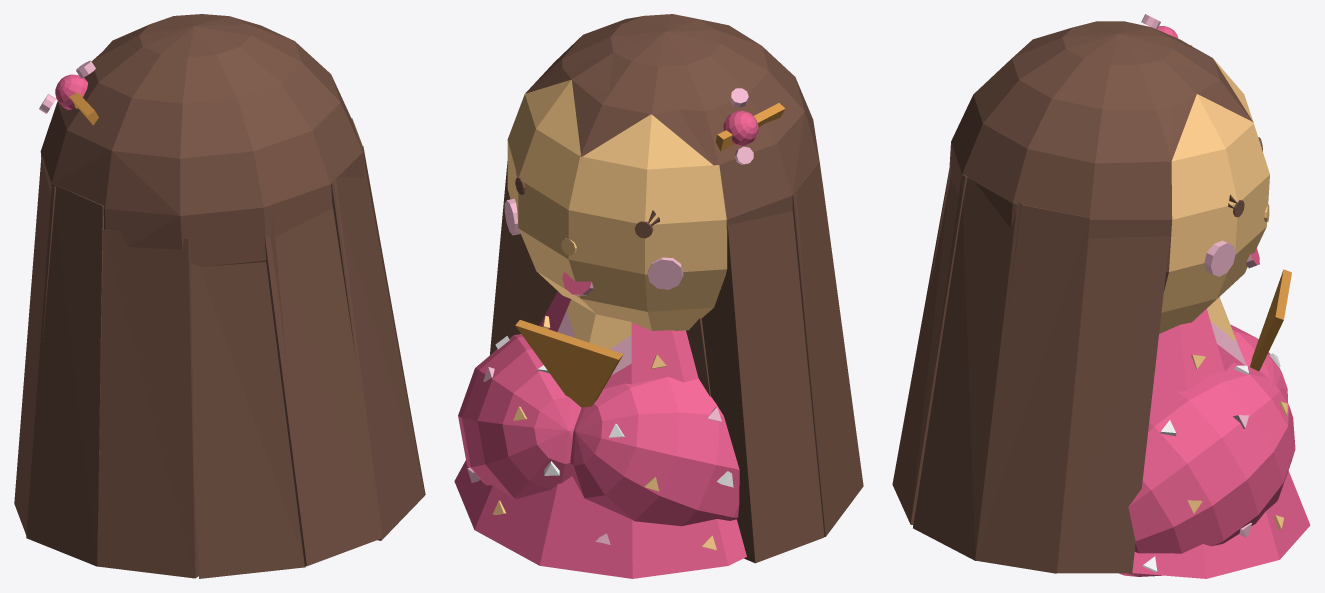
The model's file is mako.glb.
3 views of the same model, side by side, from view 1: azimuth 30°, elevation 25°; view 2: azimuth 150°, elevation 25°; view 3: azimuth 270°, elevation 25° (orthographic). The views are drawn at different scales.
Visible parts, largest first — view 1: group654682731, group1176992646, group1034090655, group230810084, group895965210, group306068029, group2015147972, group1826441400, group764418103; view 2: group654682731, group2015147972, group682332075, group39812644, group582033154, group895965210, group117373982, group493052813, group1826441400, group1554251340, group970911098; view 3: group654682731, group764418103, group117373982, group582033154, group306068029, group682332075, group230810084, group493052813, group39812644, group976105760.
Boxes of the visible parts, x1,y1,x2,y2 form: group654682731: [40, 14, 364, 266]; group1176992646: [97, 229, 198, 578]; group1034090655: [191, 216, 305, 578]; group230810084: [264, 179, 382, 566]; group895965210: [26, 183, 103, 566]; group306068029: [331, 146, 424, 540]; group2015147972: [14, 159, 56, 534]; group1826441400: [55, 74, 87, 109]; group764418103: [351, 118, 425, 494]; group654682731: [507, 14, 819, 330]; group2015147972: [701, 194, 824, 563]; group682332075: [454, 291, 746, 578]; group39812644: [570, 377, 739, 526]; group582033154: [458, 334, 581, 498]; group895965210: [792, 161, 863, 536]; group117373982: [490, 161, 557, 354]; group493052813: [515, 320, 623, 407]; group1826441400: [723, 110, 758, 146]; group1554251340: [647, 257, 683, 289]; group970911098: [686, 318, 710, 396]; group654682731: [949, 21, 1269, 333]; group764418103: [975, 203, 1089, 573]; group117373982: [1057, 236, 1169, 573]; group582033154: [1119, 362, 1295, 576]; group306068029: [913, 174, 1023, 560]; group682332075: [1132, 297, 1310, 578]; group230810084: [892, 170, 968, 524]; group493052813: [1250, 269, 1291, 371]; group39812644: [1230, 324, 1288, 403]; group976105760: [1204, 240, 1235, 276].
Size of the model in its own units: 0.2243 by 0.2985 by 0.23.
